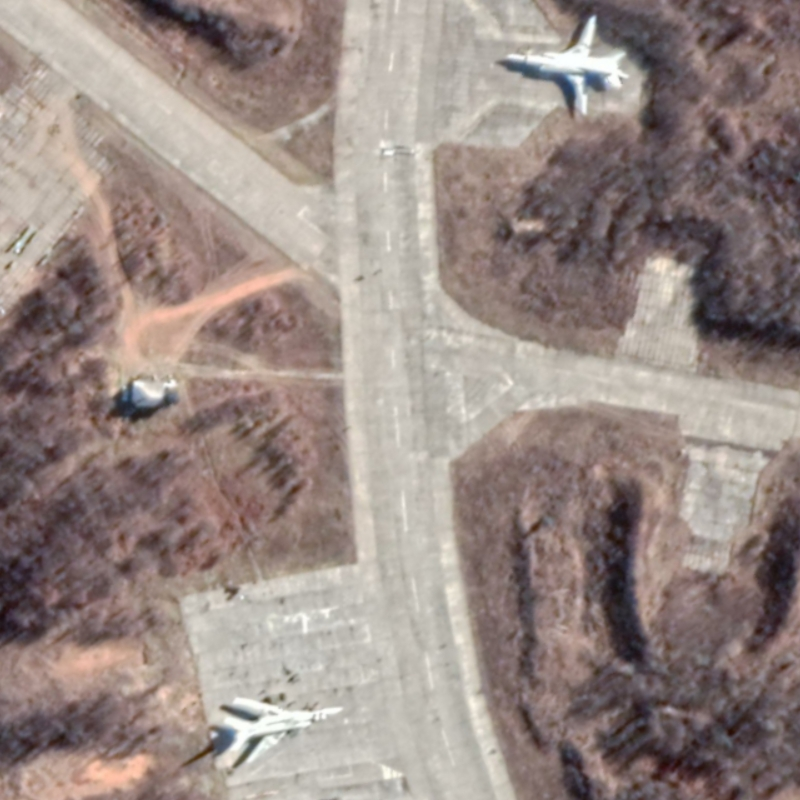A12: (499, 11, 632, 116), (209, 693, 346, 776)
